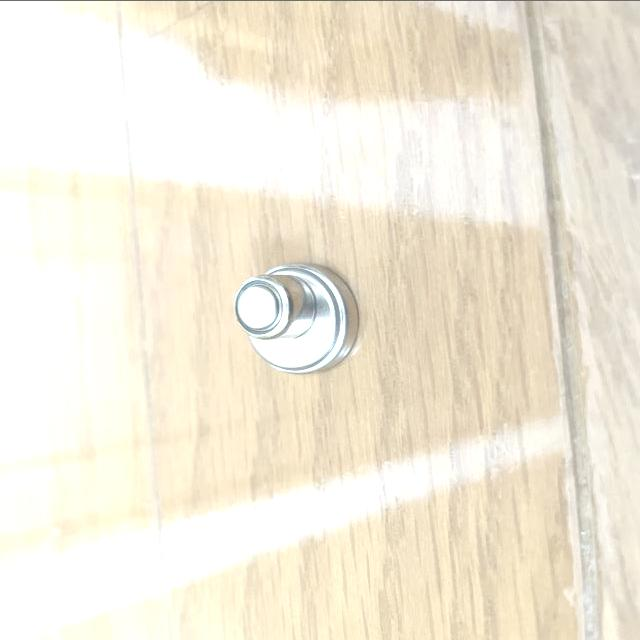COIN: (248, 261, 356, 375), (234, 272, 316, 342)
